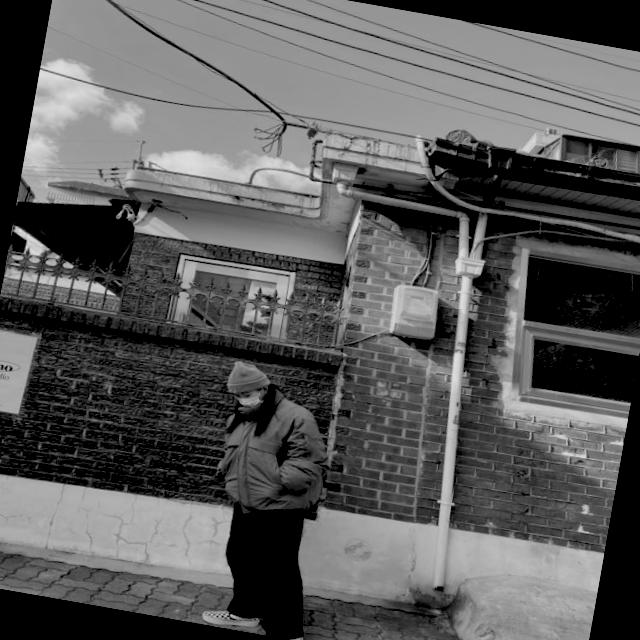denimpants: (210, 502, 324, 640)
padding: (208, 381, 342, 528)
